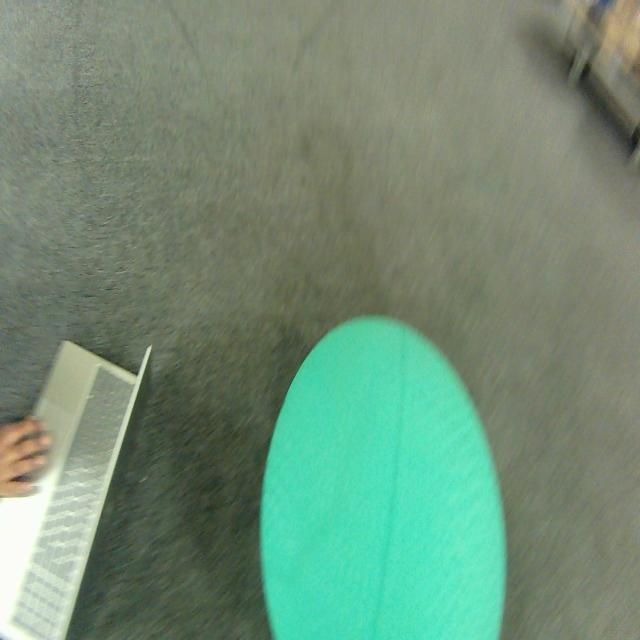algae: (260, 317, 506, 639)
